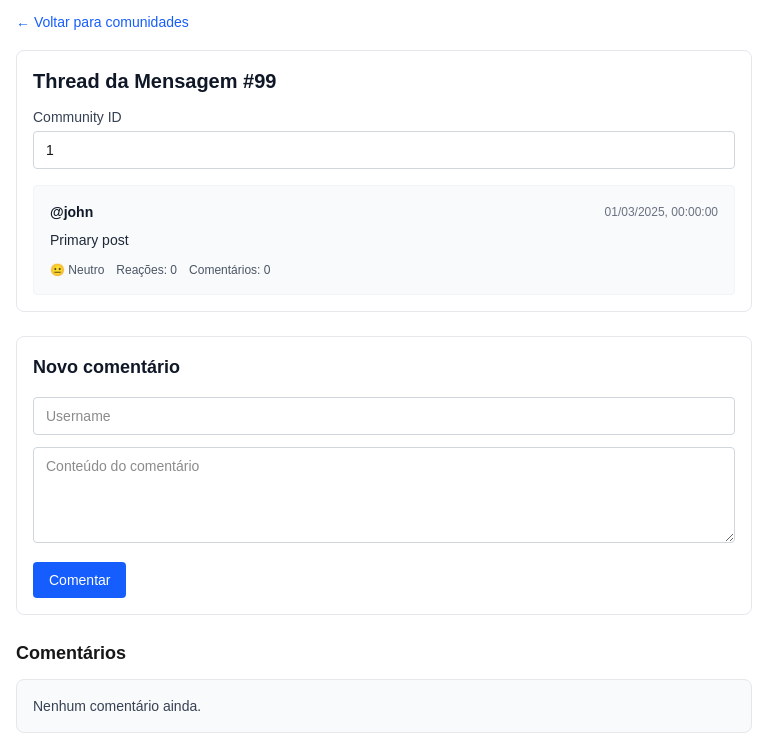
Test case: MessageThreadPage › should show specific API error when comment creation fails
Expected: the text "Primary post" is shown, [50,232,129,248]
Type "maria" into the field with placeholder "Username" at (384, 416), box [33,397,735,435]
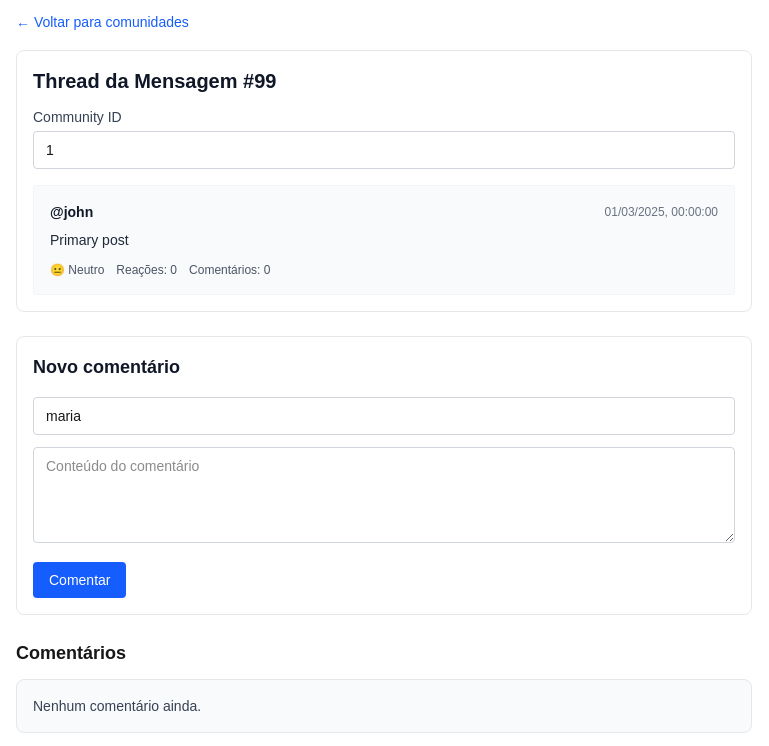
Type "Fail" into the text box with placeholder "Conteúdo do comentário" at (384, 495), box [33,447,735,543]
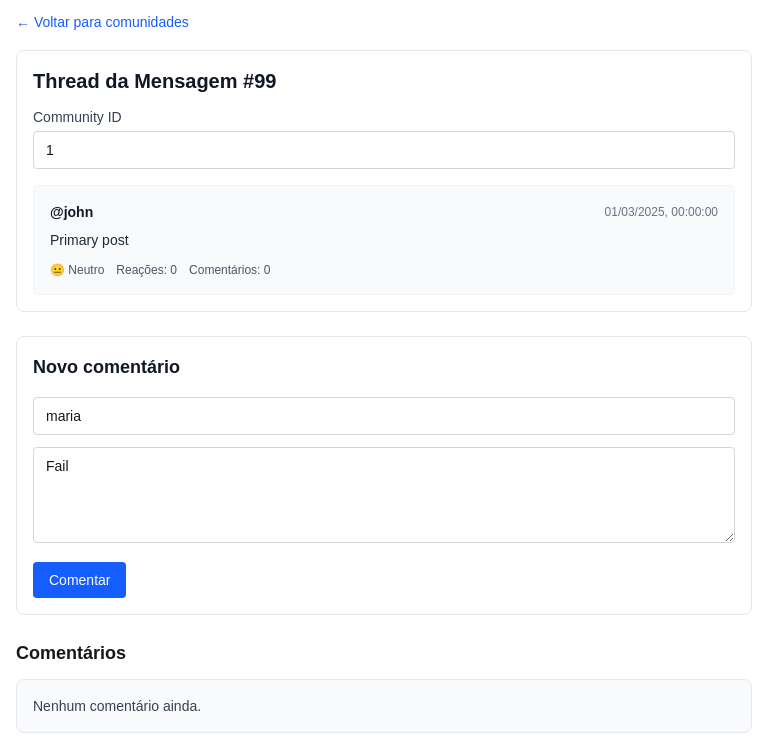
Click the button "Comentar" at (80, 580), box [33,562,126,598]
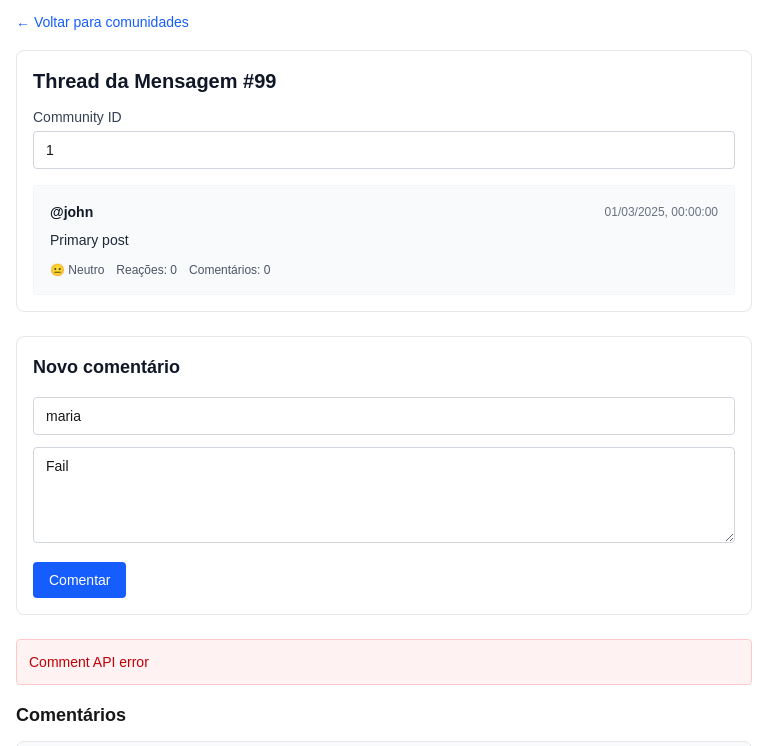
Expected: the text "Comment API error" is shown, [16,639,752,685]
